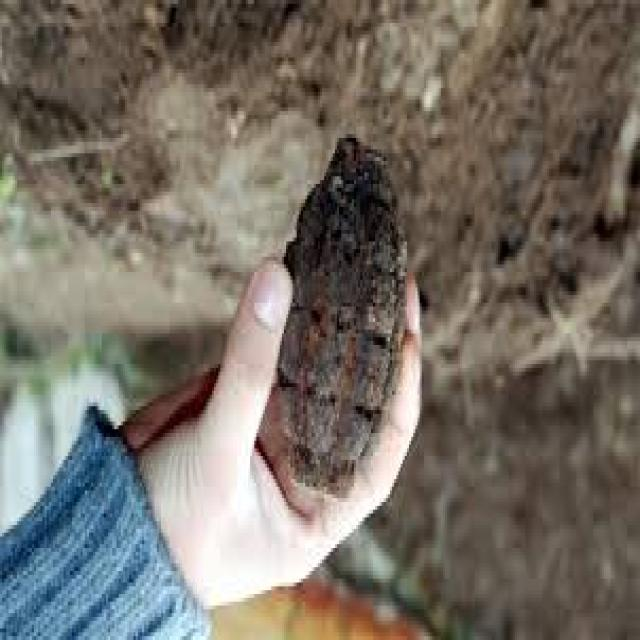grenade: (277, 138, 413, 510)
